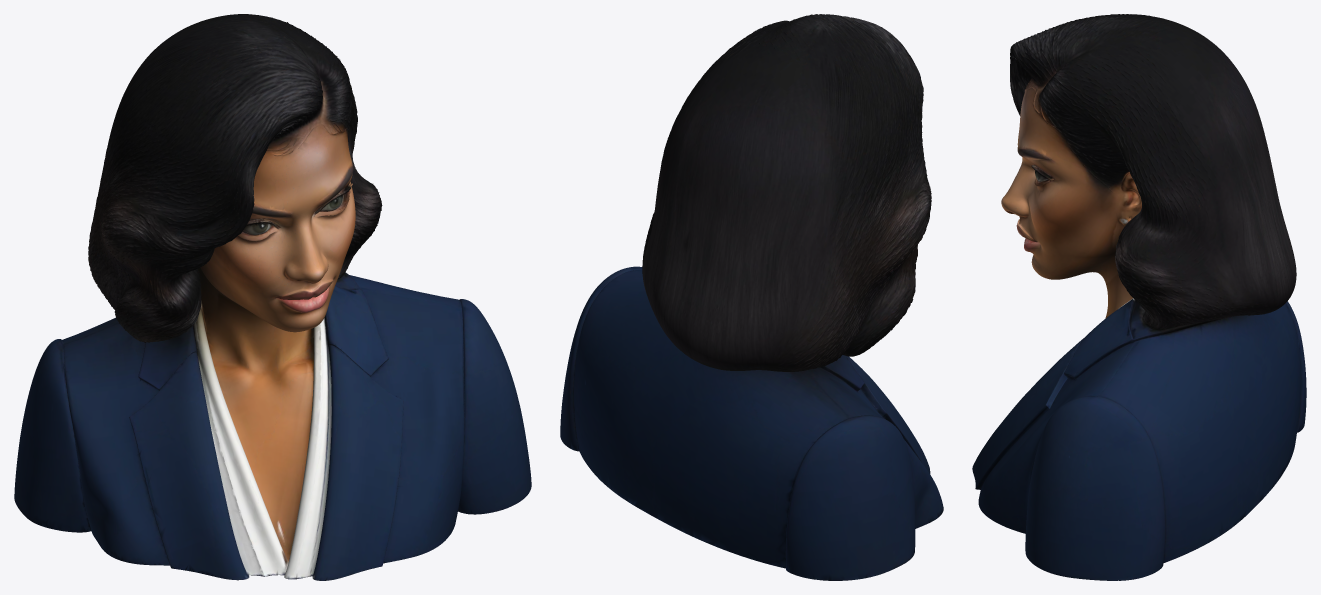
The model's file is daniela3d_rigged.glb.
3 renders of one model, left to right at view 1: azimuth 30°, elevation 25°; view 2: azimuth 150°, elevation 25°; view 3: azimuth 270°, elevation 25°, orthographic. The views are drawn at different scales.
Parts seen in each view (by area): view 1: node_0; view 2: node_0; view 3: node_0.
Boxes of the visible parts, x1=… form: node_0: x1=14, y1=14, x2=531, y2=580; node_0: x1=560, y1=14, x2=943, y2=580; node_0: x1=972, y1=14, x2=1306, y2=580.
Bounding box in the file's own units: 0.7635 × 0.8446 × 0.5738.
1 material, 1 textured.
